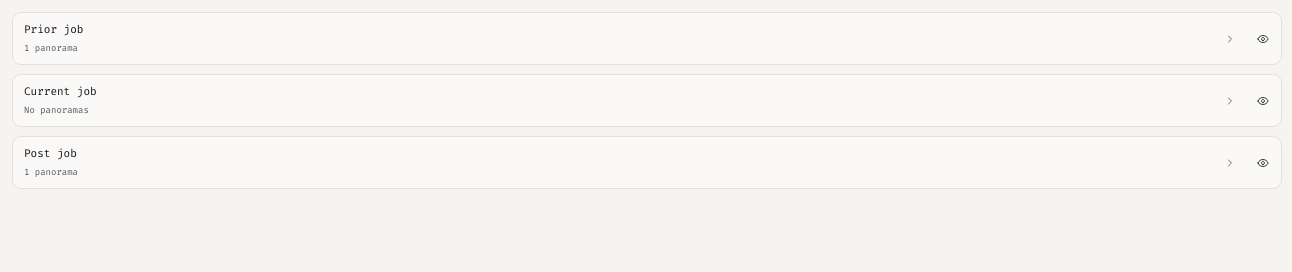
Test: PanoramaPhaseList › nests each phase's captures in a list of their own
Click the button "Prior job 1 panorama" at (54, 30), box [13,13,1247,64]
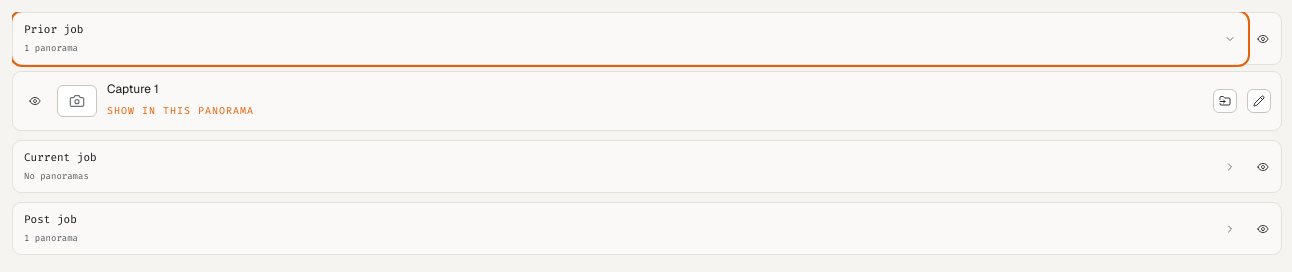
expect the button with aria-label "Show in this panorama: Capture 1" is shown: met, box [107,103,254,118]
